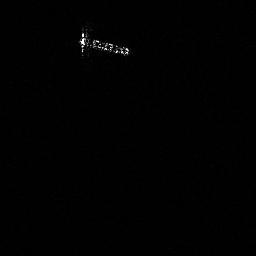ship: (78, 31, 131, 54)
